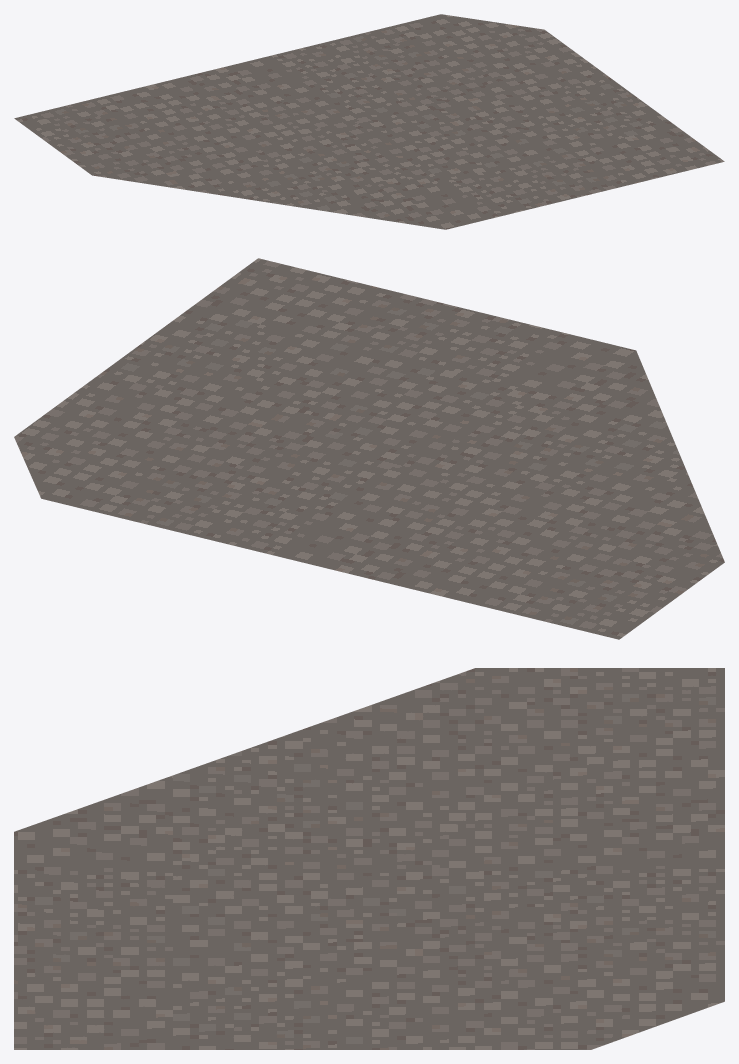
Rendered from kd_stage_135c43_3_2_bounded_piece_0.glb.
3 views of the same model, one above another, from view 1: azimuth 30°, elevation 25°; view 2: azimuth 150°, elevation 25°; view 3: azimuth 270°, elevation 25° (orthographic). The views are drawn at different scales.
Visible parts, largest first — view 1: kd_stage_135c43_3_2_bounded_piece_0; view 2: kd_stage_135c43_3_2_bounded_piece_0; view 3: kd_stage_135c43_3_2_bounded_piece_0.
Boxes of the visible parts, left/top/right/bottom form: kd_stage_135c43_3_2_bounded_piece_0: left=14, top=14, right=724, bottom=229; kd_stage_135c43_3_2_bounded_piece_0: left=14, top=258, right=724, bottom=639; kd_stage_135c43_3_2_bounded_piece_0: left=14, top=668, right=724, bottom=1049.
Size of the model in its own units: 0.7444 by 0 by 0.5859.
1 material, 1 textured.
